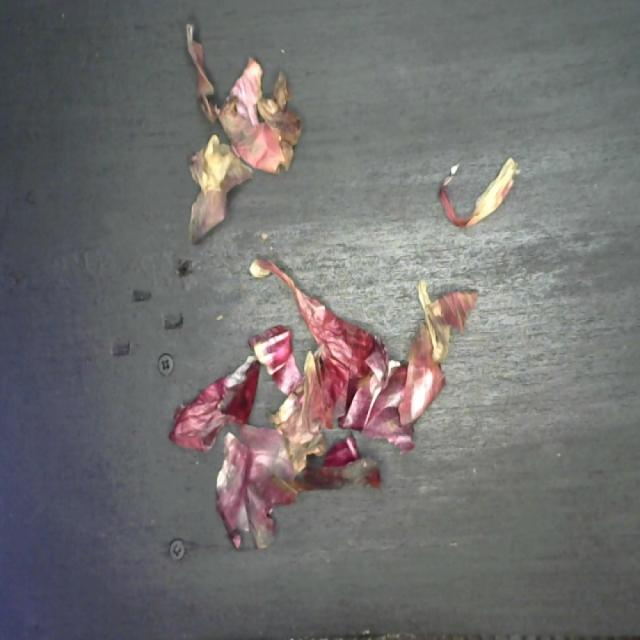biodegradable: (170, 12, 520, 552)
